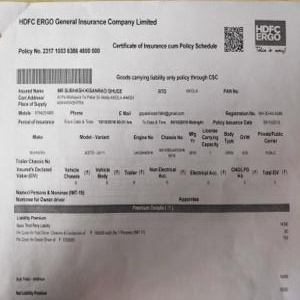image: (255, 20, 287, 47)
table: (16, 86, 292, 206)
text: (14, 214, 147, 246), (14, 15, 159, 30), (15, 42, 101, 59), (108, 39, 220, 51), (113, 71, 220, 83), (11, 286, 53, 300), (10, 273, 49, 283)
